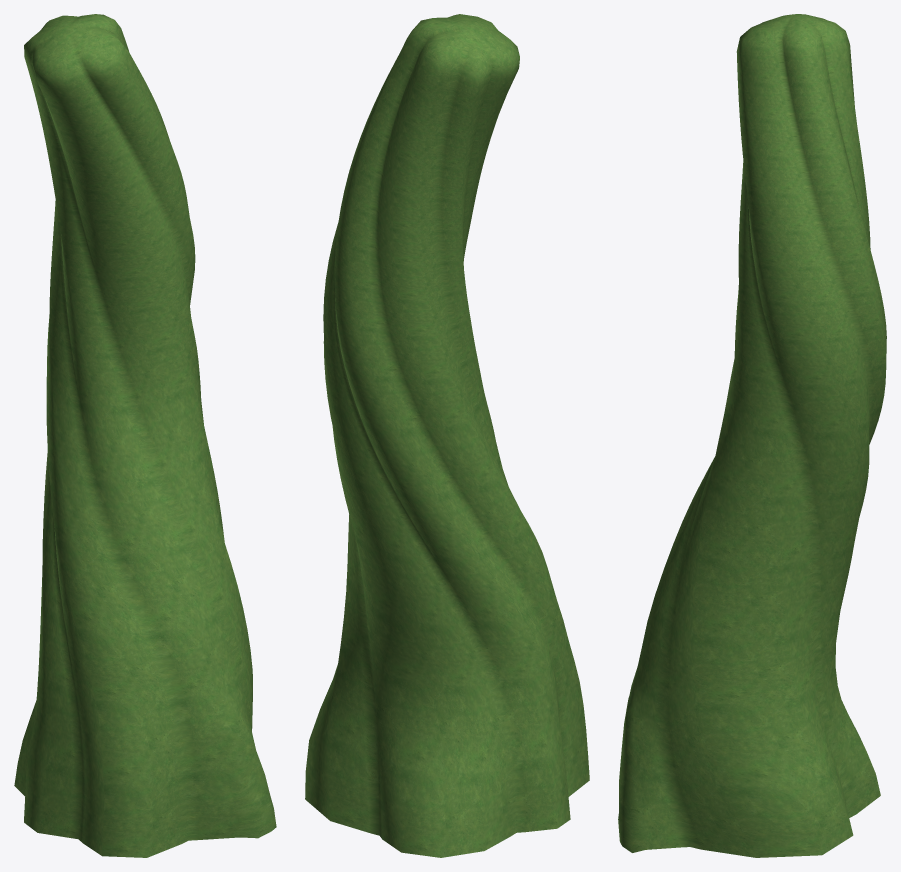
Rendered from SM_ENV_KNFRST_MiddleTree_C.FBX.
3 renders of one model, left to right at view 1: azimuth 30°, elevation 25°; view 2: azimuth 150°, elevation 25°; view 3: azimuth 270°, elevation 25°, orthographic. The views are drawn at different scales.
Visible parts, largest first — view 1: SM_ENV_KNFRST_MiddleTree_C; view 2: SM_ENV_KNFRST_MiddleTree_C; view 3: SM_ENV_KNFRST_MiddleTree_C.
Part boxes in pixels (left/top/right/bottom): SM_ENV_KNFRST_MiddleTree_C: left=14, top=14, right=276, bottom=857; SM_ENV_KNFRST_MiddleTree_C: left=305, top=14, right=589, bottom=857; SM_ENV_KNFRST_MiddleTree_C: left=618, top=14, right=886, bottom=857.
Bounding box in the file's own units: 1792 × 6145 × 1924.
